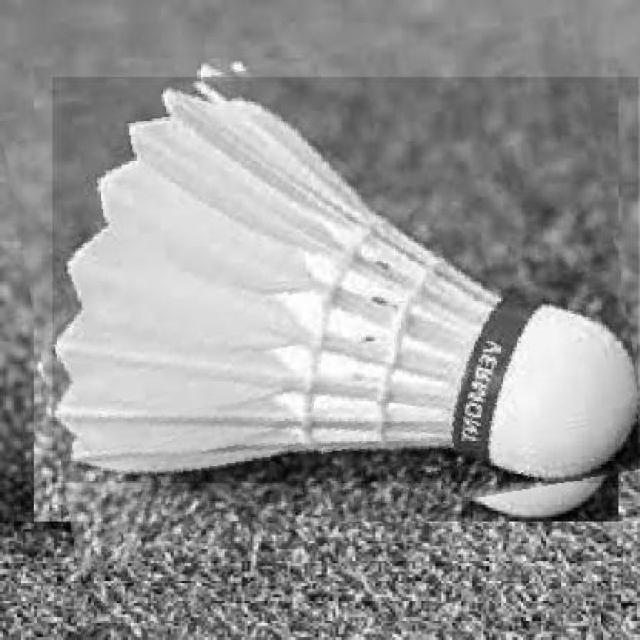Shuttlecock: (51, 76, 638, 482)
